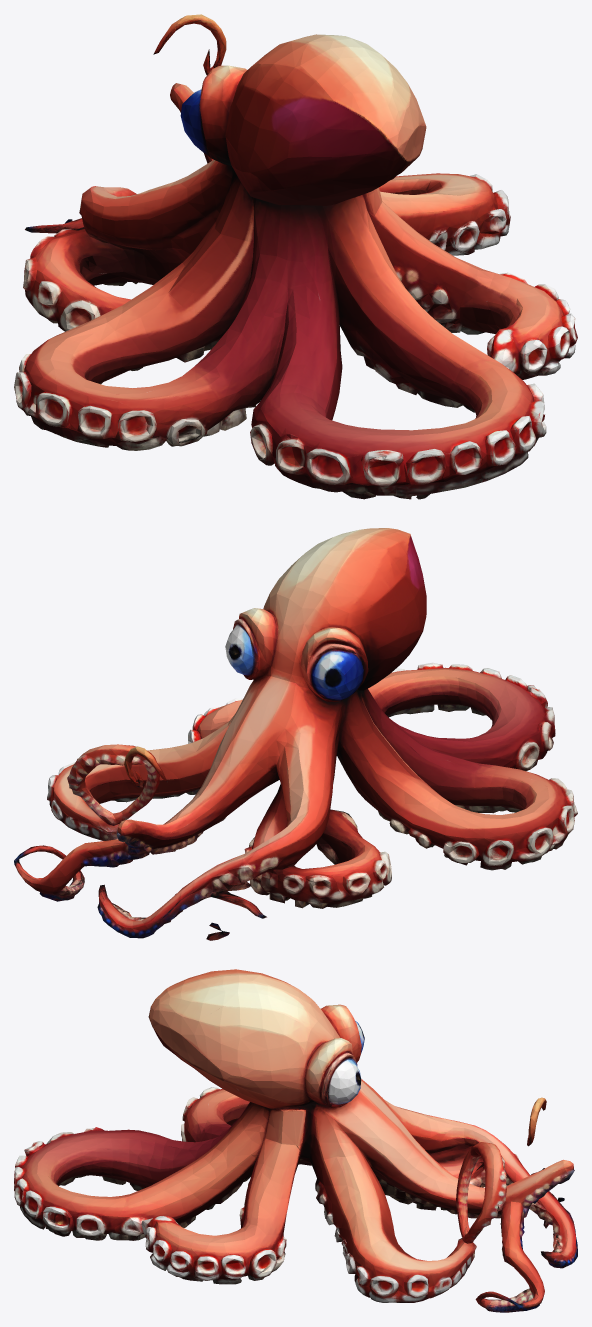
File: squid.glb
The picture shows the model from 3 angles, top to bottom: view 1: azimuth 30°, elevation 25°; view 2: azimuth 150°, elevation 25°; view 3: azimuth 270°, elevation 25°; orthographic projection. The views are drawn at different scales.
Parts seen in each view (by area): view 1: world; view 2: world; view 3: world.
Part boxes in pixels (<box>): world: <box>14,14,577,499</box>; world: <box>14,528,577,940</box>; world: <box>14,969,577,1312</box>.
Bounding box in the file's own units: 0.8307 × 0.5271 × 1.
1 material, 1 textured.
